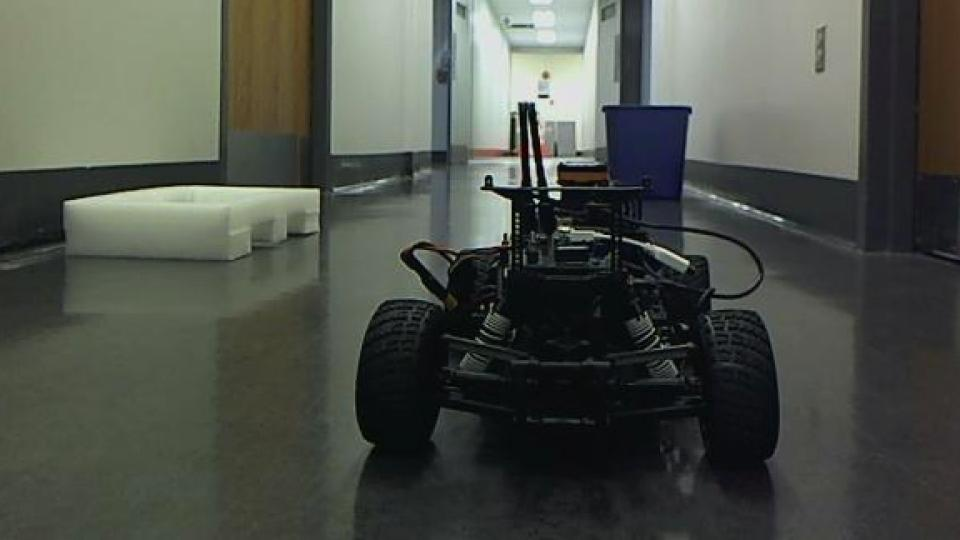car: (350, 171, 783, 472)
